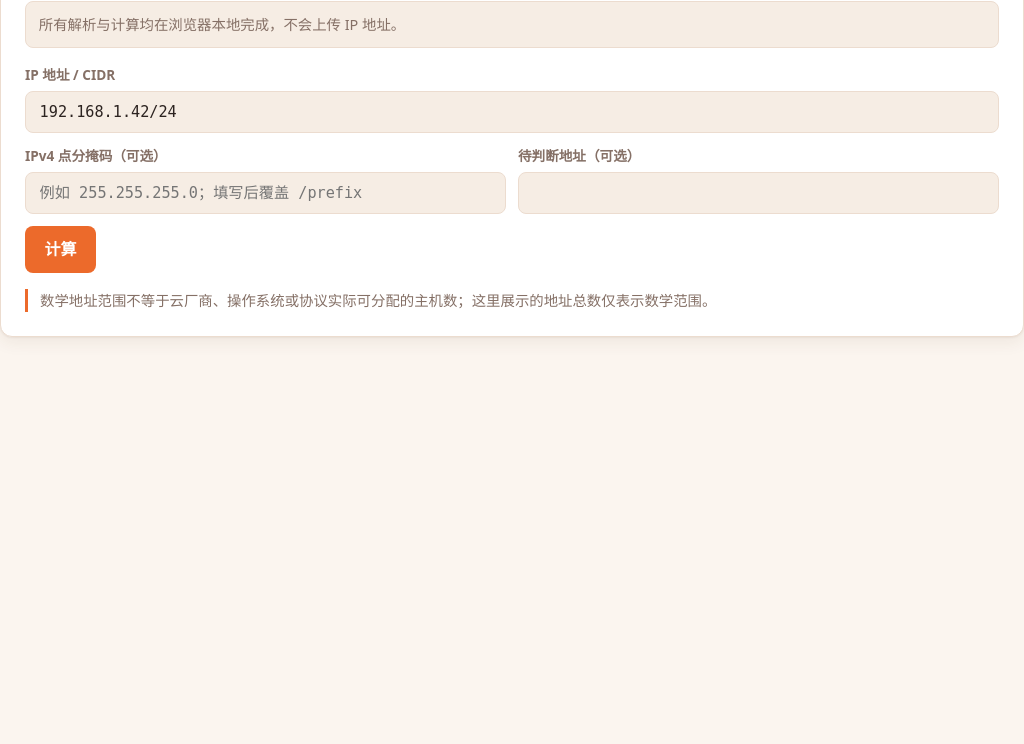
Test: renders exact large IPv6 values as text without IPv4-only rows
The image size is (1024, 744).
Replace the text in the field labelled "IP 地址 / CIDR" with "2001:db8::1/0" at (512, 112), box [25,91,999,133]
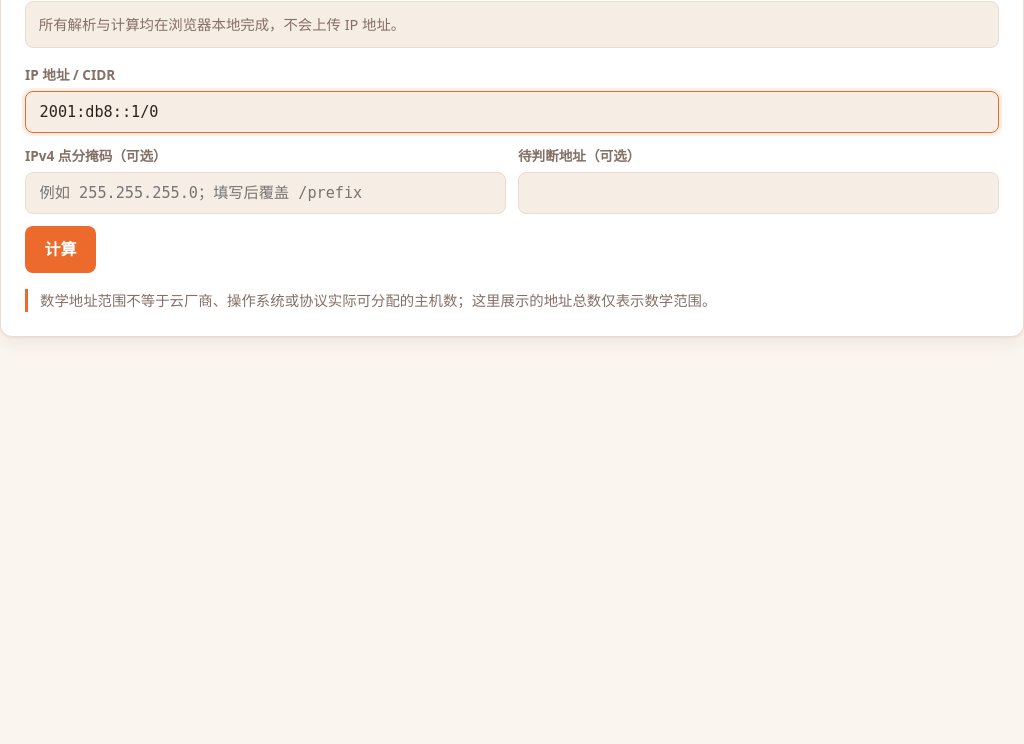
Click the button "计算" at (60, 250), box [25,226,96,273]
(page scrolled)
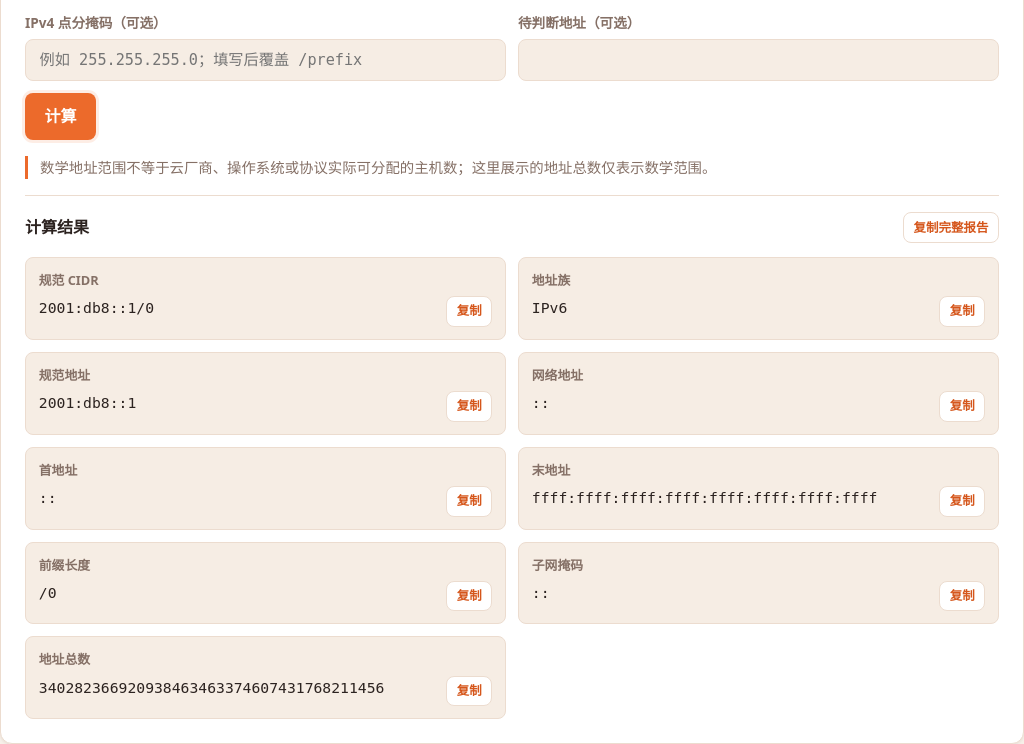
Expected: the text named "规范 CIDR" reads "2001:db8::1/0", [39,299,154,316]
Expected: the text named "网络地址" reads "::", [532,394,550,411]
Expected: the text named "末地址" reads "ffff:ffff:ffff:ffff:ffff:ffff:ffff:ffff", [532,489,877,506]
